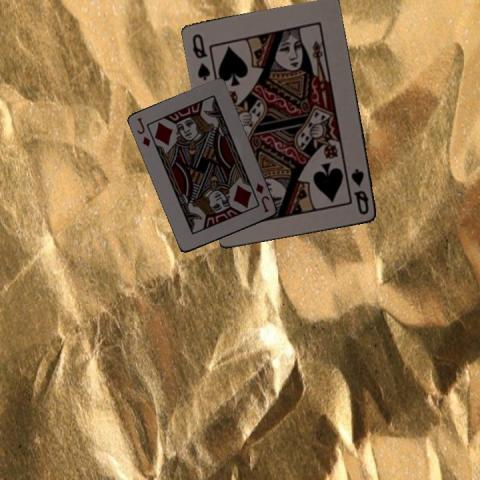Jd: (253, 180, 271, 214), (134, 115, 152, 148)
Qs: (189, 30, 212, 80), (348, 166, 370, 217)
